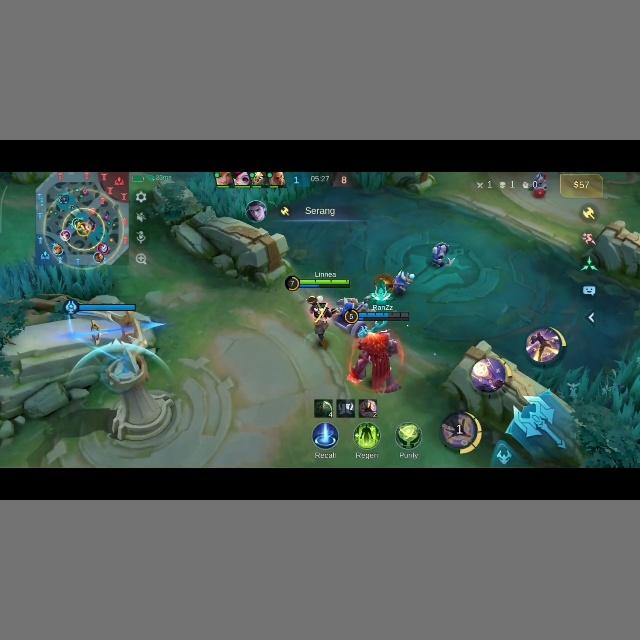hp_self: (284, 275, 352, 290), (356, 311, 408, 322), (296, 278, 352, 287)
minion_ally: (378, 270, 412, 296), (429, 240, 454, 266)
minion_enemy: (528, 172, 546, 197)
